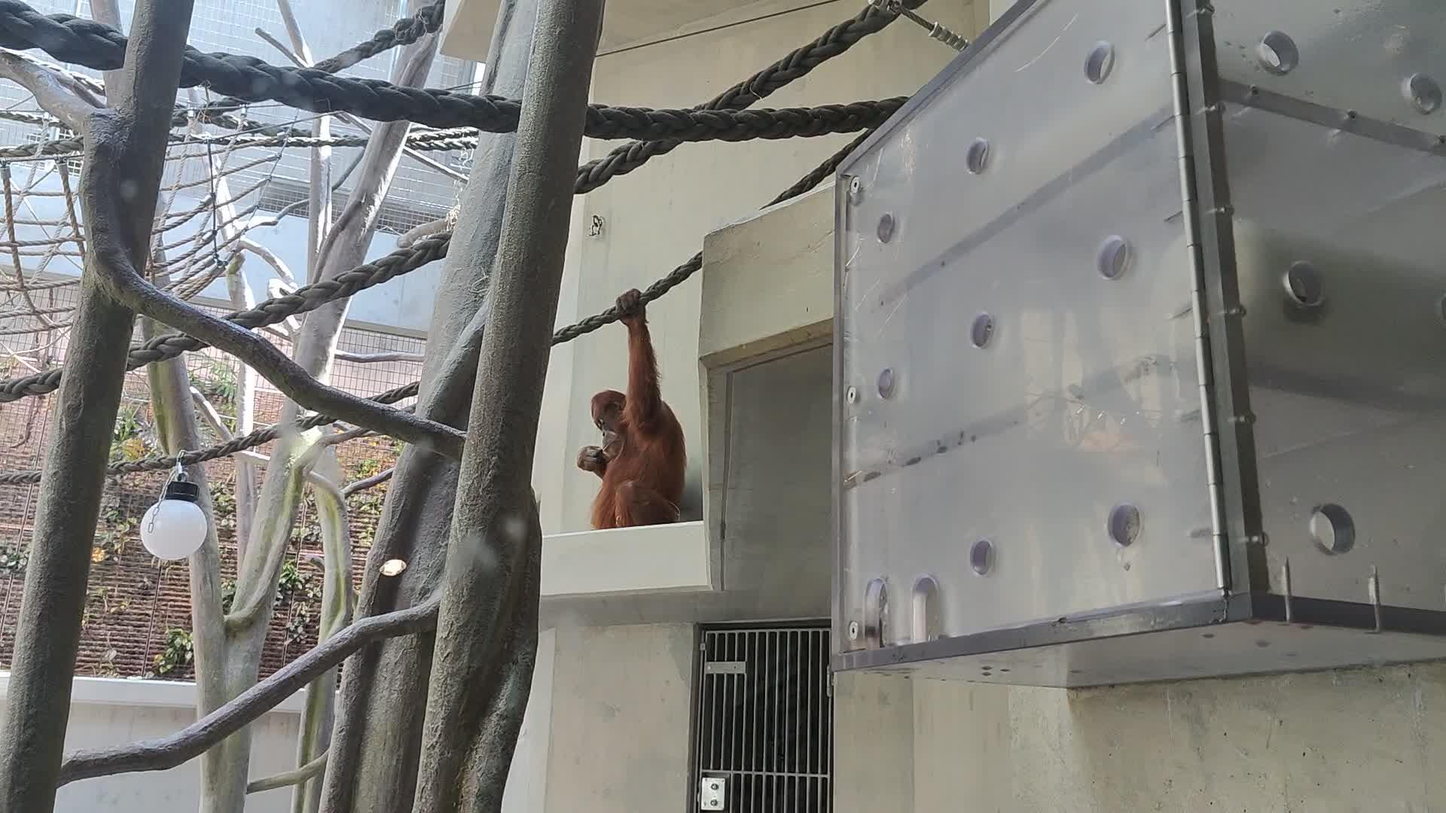boar: (576, 288, 687, 531)
